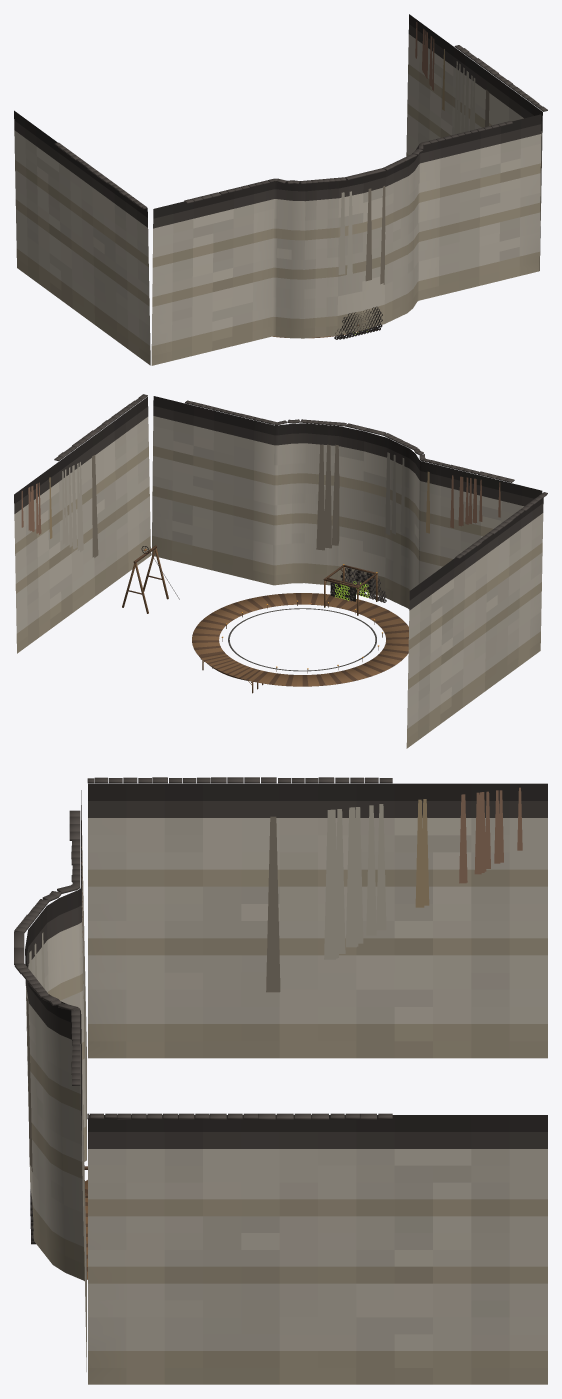
File: landmark_sinkhole.glb
The picture shows the model from 3 angles, top to bottom: view 1: azimuth 30°, elevation 25°; view 2: azimuth 150°, elevation 25°; view 3: azimuth 270°, elevation 25°; orthographic projection. The views are drawn at different scales.
Parts seen in each view (by area): view 1: landmark_sinkhole; view 2: landmark_sinkhole; view 3: landmark_sinkhole.
Boxes of the visible parts, x1=… form: landmark_sinkhole: x1=14, y1=14, x2=547, y2=365; landmark_sinkhole: x1=14, y1=394, x2=547, y2=748; landmark_sinkhole: x1=14, y1=777, x2=547, y2=1384.
Bounding box in the file's own units: 259 × 108 × 171.
